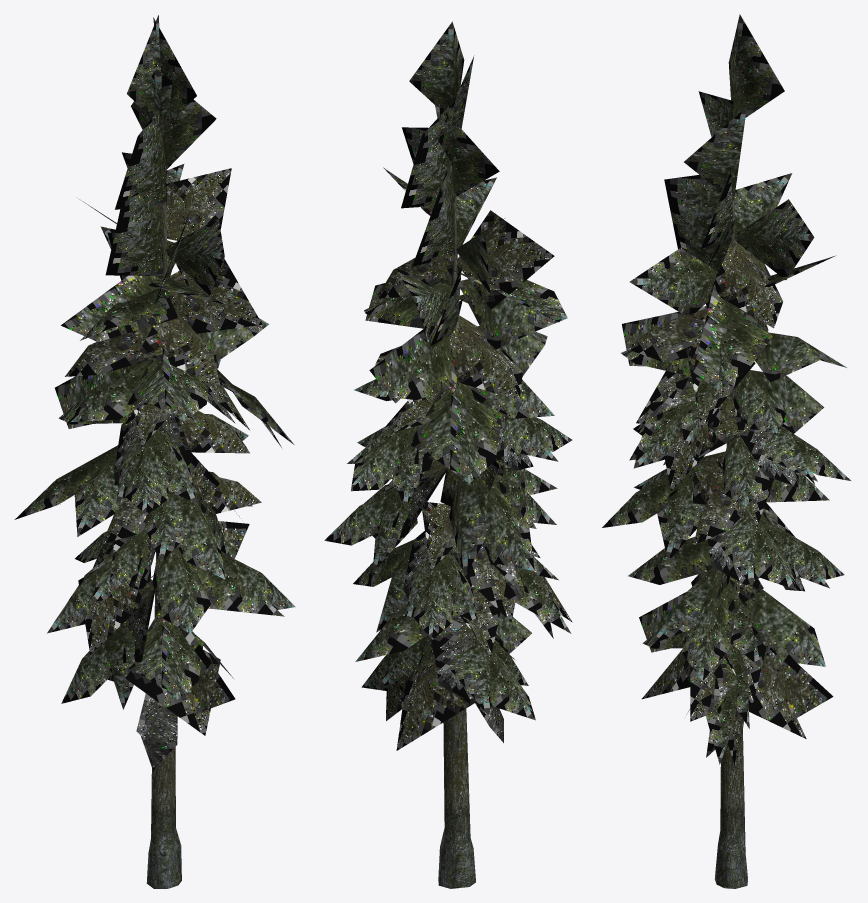
Rendered from treepineforestsnowl02-transformed.glb.
3 views of the same model, side by side, from view 1: azimuth 30°, elevation 25°; view 2: azimuth 150°, elevation 25°; view 3: azimuth 270°, elevation 25° (orthographic).
Parts seen in each view (by area): view 1: default; view 2: default; view 3: default.
Part boxes in pixels (x1,y1,x2,y2): default: (14, 15, 295, 888); default: (324, 21, 572, 888); default: (602, 14, 850, 888).
Bounding box in the file's own units: 7.26 × 25.71 × 6.78.
2 materials, 2 textured.
